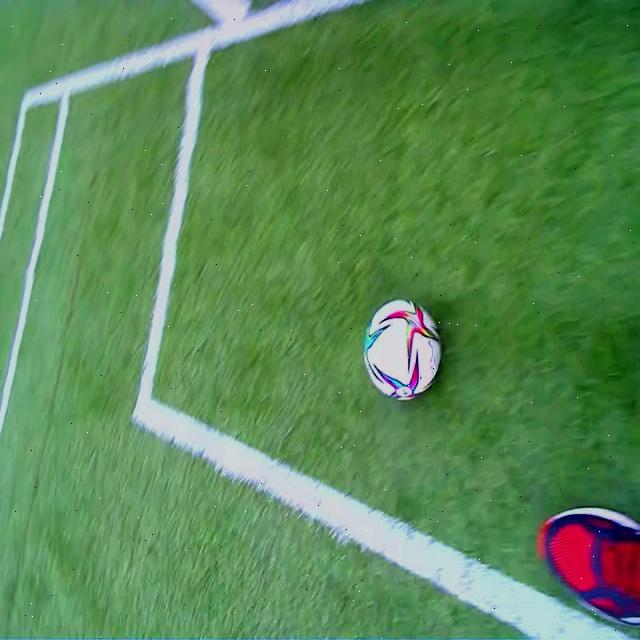ball: (362, 295, 443, 401)
